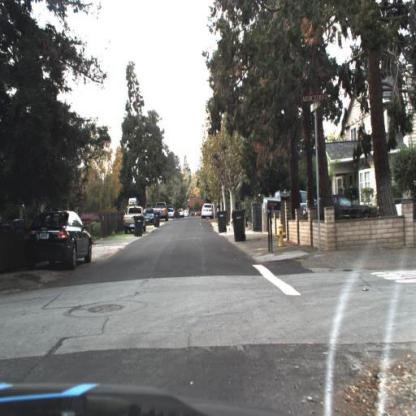car: (22, 207, 96, 271), (309, 194, 374, 219), (265, 189, 314, 218), (121, 202, 145, 240), (143, 206, 158, 228), (154, 201, 167, 224), (200, 202, 214, 220)
